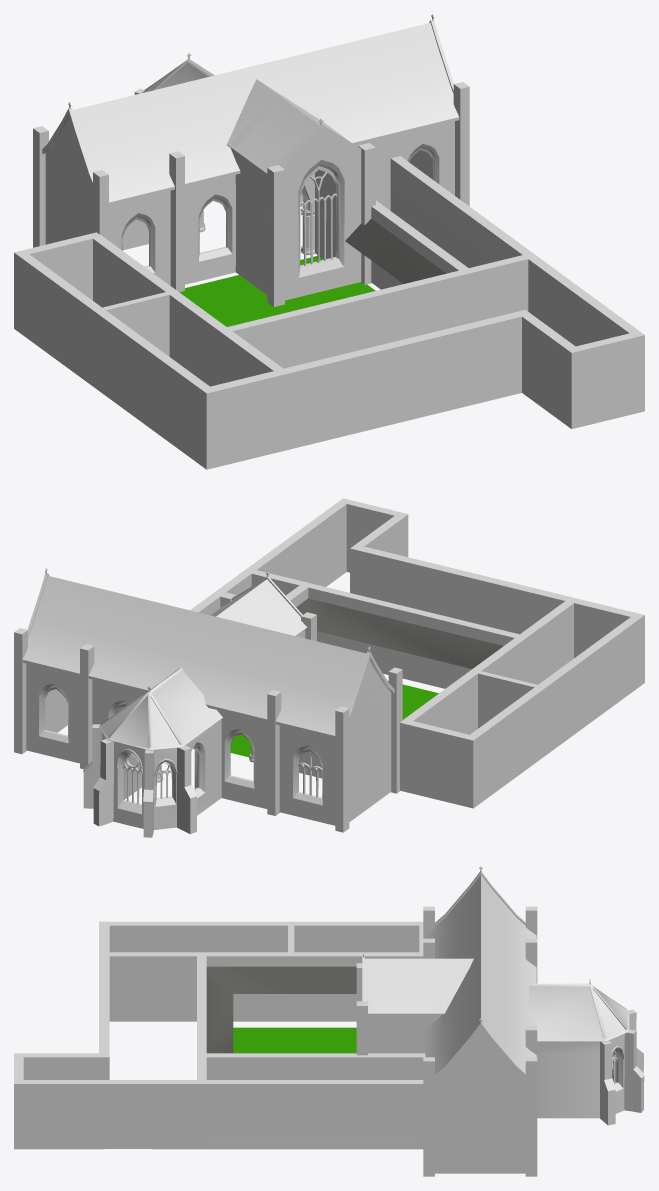
The model's file is BlackfriarsChurch.fbx.
3 views of the same model, one above another, from view 1: azimuth 30°, elevation 25°; view 2: azimuth 150°, elevation 25°; view 3: azimuth 270°, elevation 25° (orthographic). The views are drawn at different scales.
Parts seen in each view (by area): view 1: WBWalls.003, ChurchWalls, STWalls, ChurchButresses, Plane.001, ChurchButresses.003, NTWalls, SouthWindow; view 2: WBWalls.003, ChurchWalls, NTWalls, ChurchButresses, Buttresses, STWalls, Plane.001, ChurchButresses.003; view 3: WBWalls.003, ChurchWalls, NTWalls, STWalls, ChurchButresses, Plane.001, Buttresses, ChurchButresses.003.
Boxes of the visible parts, <box> form: WBWalls.003: <box>14,156,644,469</box>; ChurchWalls: <box>42,19,459,285</box>; STWalls: <box>227,79,361,300</box>; ChurchButresses: <box>33,82,469,292</box>; Plane.001: <box>180,256,375,326</box>; ChurchButresses.003: <box>267,143,375,306</box>; NTWalls: <box>142,59,214,232</box>; SouthWindow: <box>300,193,337,265</box>; WBWalls.003: <box>190,498,644,808</box>; ChurchWalls: <box>22,573,394,825</box>; NTWalls: <box>99,668,222,829</box>; ChurchButresses: <box>14,628,402,832</box>; Buttresses: <box>83,724,197,837</box>; STWalls: <box>210,576,307,762</box>; Plane.001: <box>230,681,438,757</box>; ChurchButresses.003: <box>220,592,316,641</box>; WBWalls.003: <box>14,921,425,1149</box>; ChurchWalls: <box>425,871,536,1173</box>; NTWalls: <box>529,983,629,1118</box>; STWalls: <box>362,956,473,1053</box>; ChurchButresses: <box>423,906,537,1176</box>; Plane.001: <box>233,1027,356,1053</box>; Buttresses: <box>600,1009,644,1125</box>; ChurchButresses.003: <box>356,963,367,1055</box>.
Bounding box in the file's own units: 4204 × 5933 × 1645.
